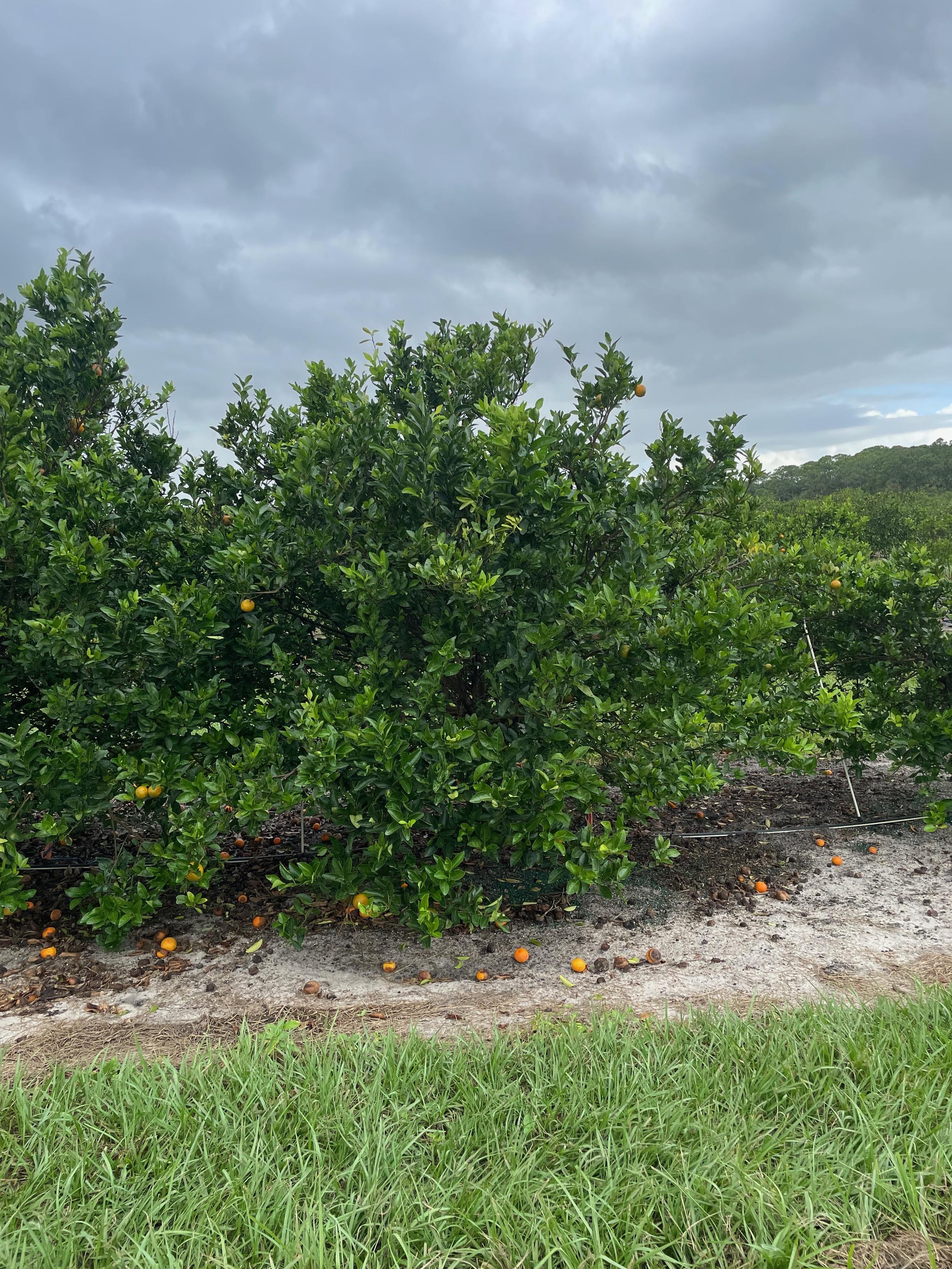fruit_on_ground: (183, 860, 205, 883), (350, 891, 372, 912), (66, 416, 88, 437), (88, 361, 106, 380), (239, 596, 257, 615), (145, 782, 163, 799), (617, 643, 634, 660), (593, 392, 610, 409), (632, 382, 648, 399), (134, 785, 149, 800), (1, 904, 15, 918), (220, 514, 234, 527), (829, 578, 843, 590), (763, 661, 775, 673), (780, 546, 786, 554)
fruit_on_tree: (645, 946, 664, 964), (302, 978, 321, 995), (357, 903, 375, 920), (570, 956, 587, 973), (161, 936, 178, 952), (513, 946, 530, 962), (39, 945, 58, 959), (773, 887, 790, 901), (416, 968, 432, 982), (381, 959, 397, 972), (40, 926, 56, 939), (252, 914, 266, 928), (754, 879, 768, 893), (494, 916, 509, 929), (49, 907, 64, 920), (154, 928, 169, 940), (67, 974, 82, 986), (738, 864, 751, 877), (319, 832, 332, 844), (735, 872, 748, 884), (218, 849, 231, 861), (236, 892, 249, 904), (476, 969, 489, 981), (154, 948, 168, 959), (213, 904, 225, 916), (221, 804, 234, 815), (814, 837, 827, 848), (830, 855, 843, 866), (24, 899, 35, 911), (399, 878, 410, 889), (666, 799, 677, 810), (867, 844, 879, 854), (823, 768, 834, 778), (234, 837, 245, 847), (695, 809, 705, 819), (311, 822, 321, 831), (271, 836, 282, 844)
